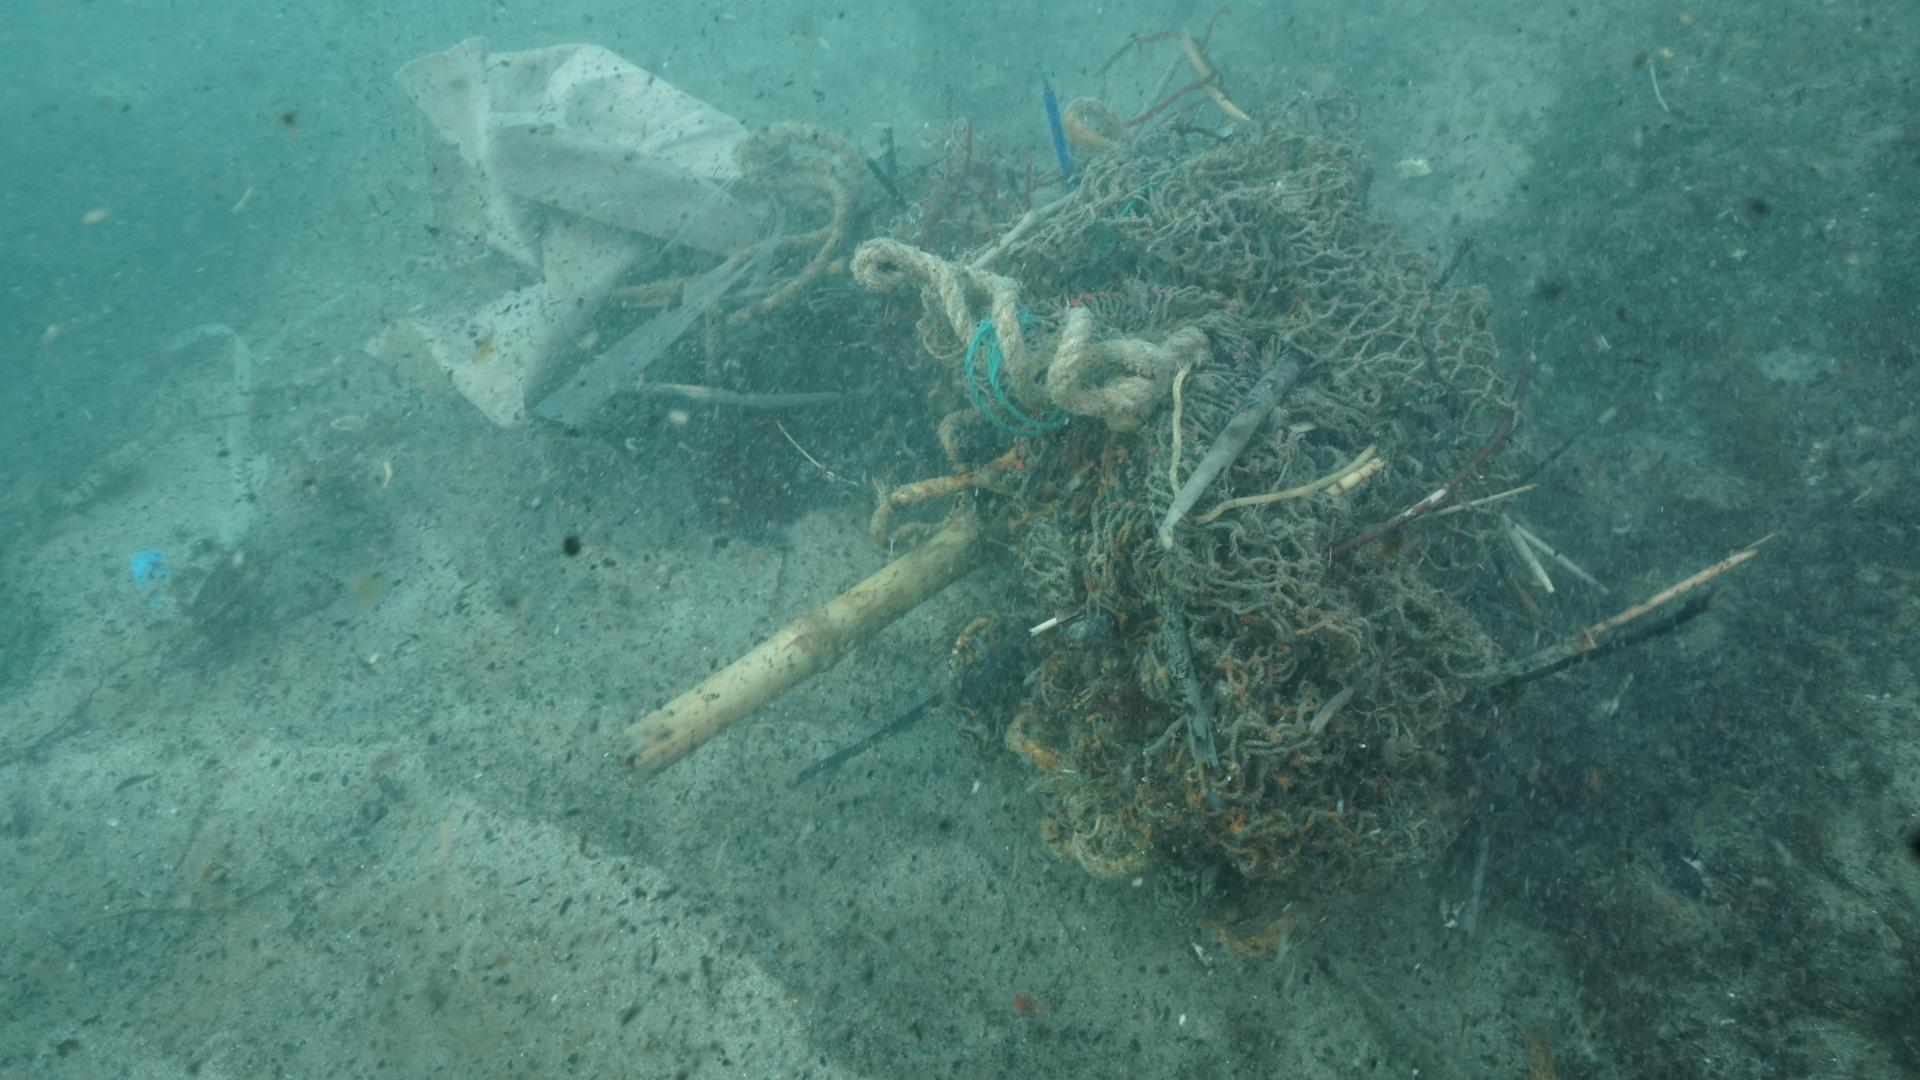bundle of ropes: (847, 231, 1220, 438)
fish net: (1025, 127, 1536, 409)
